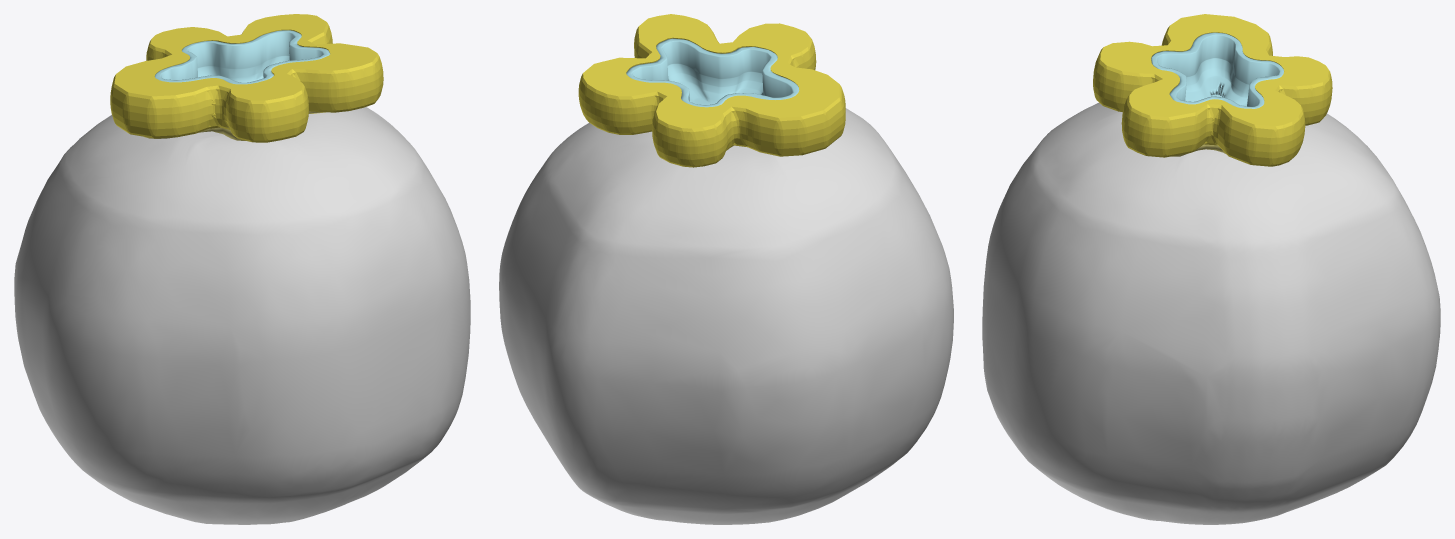
The model's file is flower28.glb.
The picture shows the model from 3 angles, left to right: view 1: azimuth 30°, elevation 25°; view 2: azimuth 150°, elevation 25°; view 3: azimuth 270°, elevation 25°; orthographic projection.
Visible parts, largest first — view 1: Cylinder.045, Plane.198, Plane.199; view 2: Cylinder.045, Plane.198, Plane.199; view 3: Cylinder.045, Plane.198, Plane.199.
Boxes of the visible parts, x1,y1,x2,y2 form: Cylinder.045: (14,107,470,524); Plane.198: (110,14,383,142); Plane.199: (155,30,329,84); Cylinder.045: (499,108,953,524); Plane.198: (578,14,845,167); Plane.199: (626,38,799,107); Cylinder.045: (982,103,1440,524); Plane.198: (1093,14,1332,166); Plane.199: (1151,32,1283,108).
Bounding box in the file's own units: 80.33 × 84.37 × 81.16.
